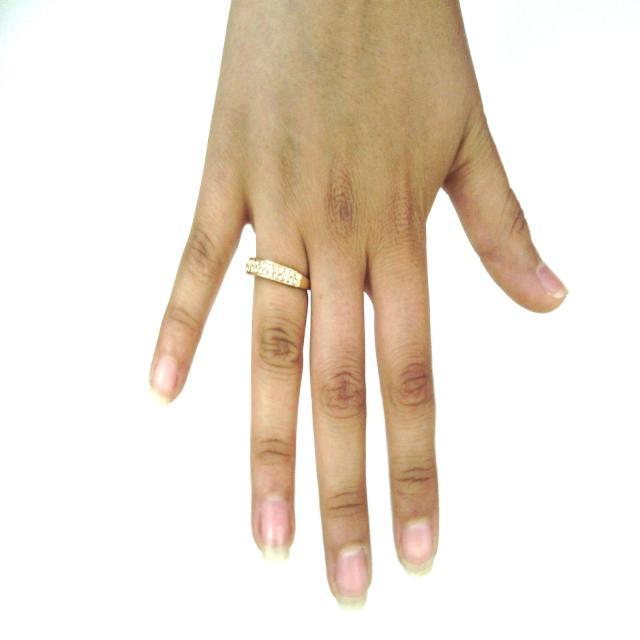Fingernail: (336, 548, 368, 609), (261, 496, 289, 561), (402, 521, 433, 575), (538, 262, 566, 297), (153, 358, 177, 397)
